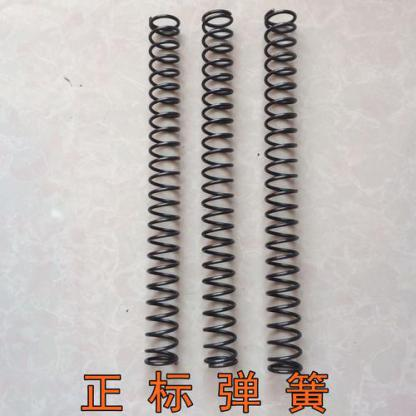FOD: (260, 5, 304, 374), (141, 13, 182, 372), (199, 6, 238, 372)
